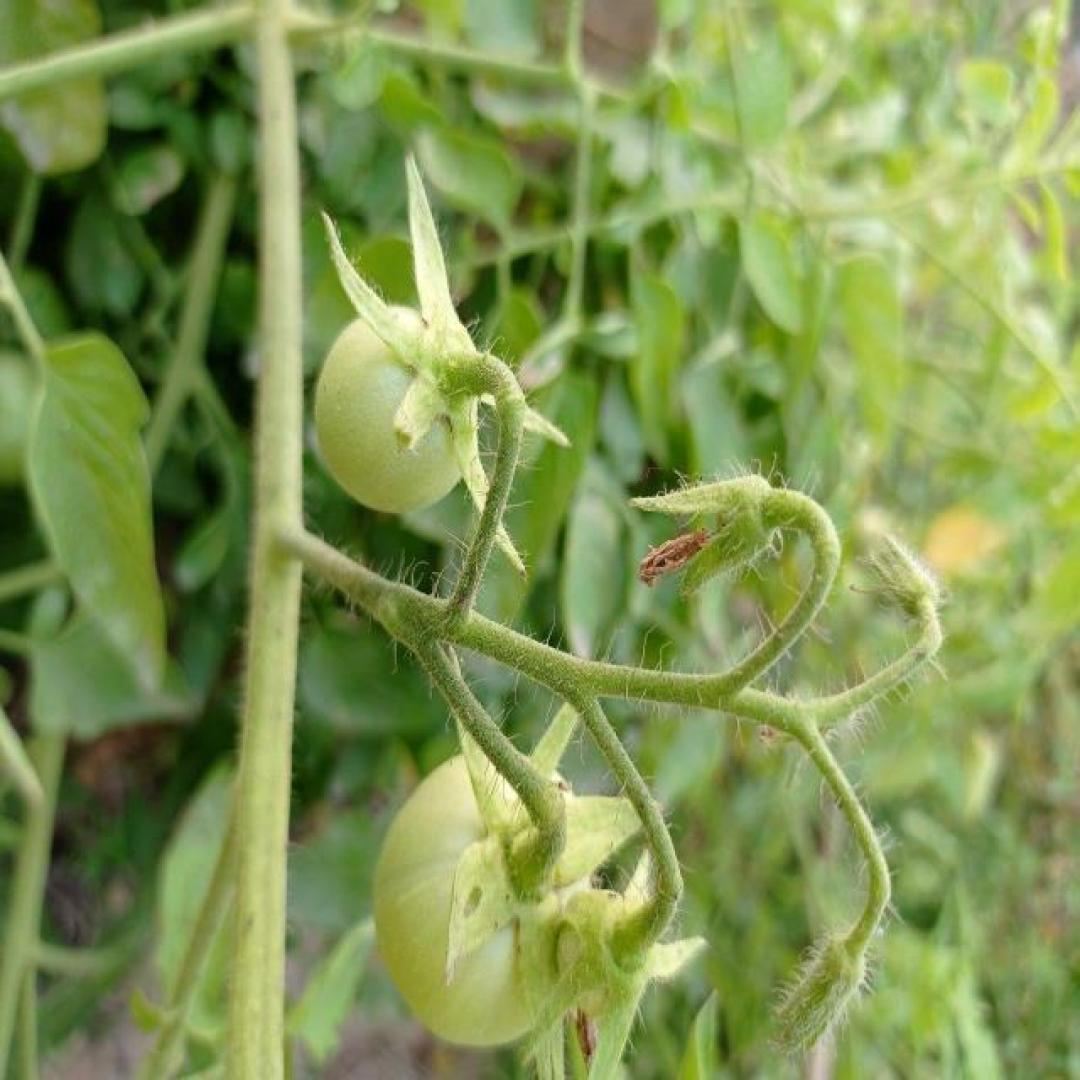mentah: (373, 747, 592, 1043), (316, 304, 470, 513)
